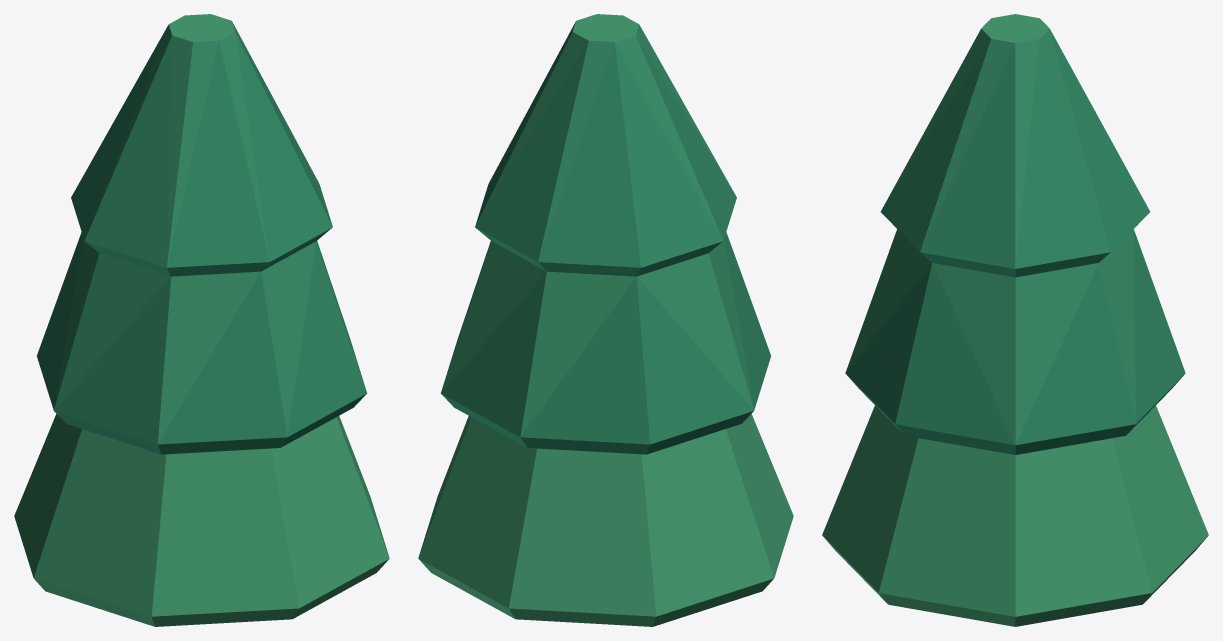
The model's file is kn_tree_pine.obj.
3 views of the same model, side by side, from view 1: azimuth 30°, elevation 25°; view 2: azimuth 150°, elevation 25°; view 3: azimuth 270°, elevation 25° (orthographic).
Bounding box in the file's own units: 6.04 × 9 × 6.04.
